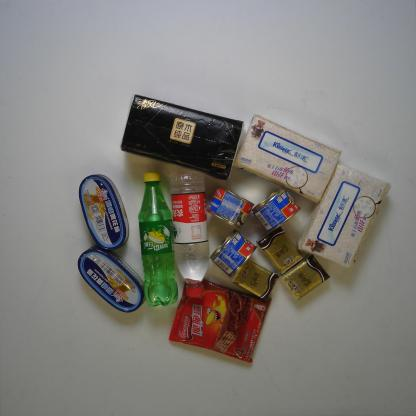Canned Food: (77, 245, 148, 313), (77, 173, 130, 251), (251, 185, 302, 234), (209, 228, 258, 278), (206, 185, 254, 230)
Dessert: (167, 277, 272, 364)
Drink: (138, 171, 179, 308), (168, 171, 210, 299)
Tissue: (118, 92, 245, 180), (297, 160, 394, 270), (233, 114, 342, 204), (255, 227, 303, 275), (280, 254, 330, 300), (231, 258, 280, 301)
